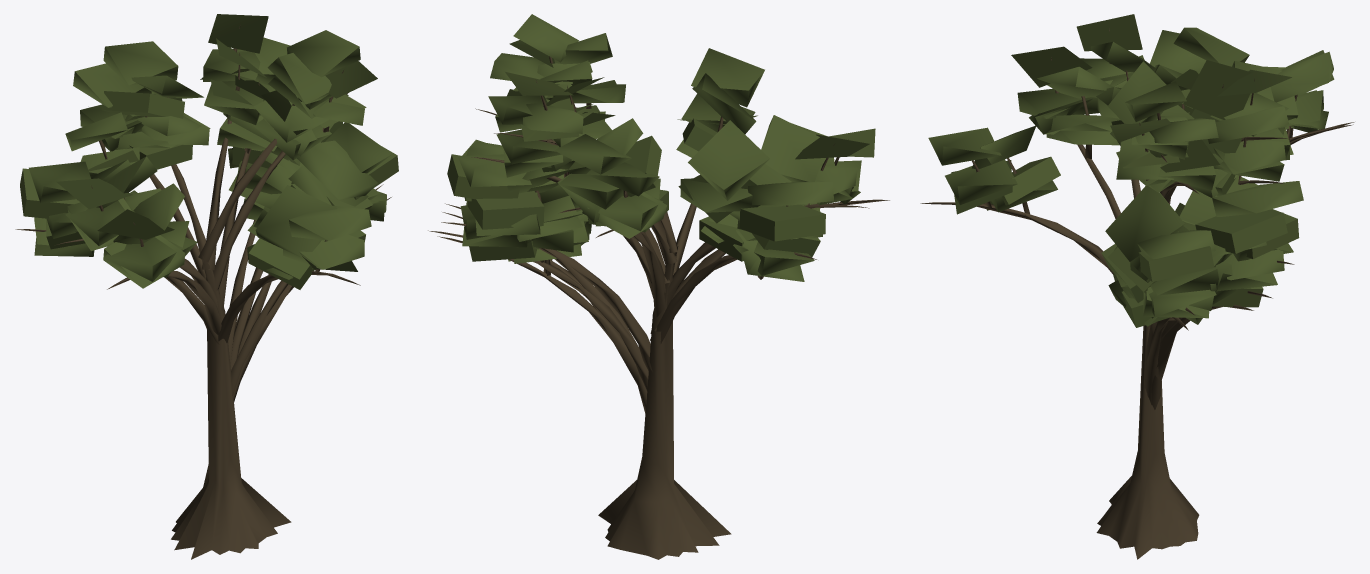
Rendered from Tree_BaldCypress_001.fbx.
The picture shows the model from 3 angles, left to right: view 1: azimuth 30°, elevation 25°; view 2: azimuth 150°, elevation 25°; view 3: azimuth 270°, elevation 25°; orthographic projection. The views are drawn at different scales.
Visible parts, largest first — view 1: Tree_BaldCypress.001; view 2: Tree_BaldCypress.001; view 3: Tree_BaldCypress.001.
Part boxes in pixels (left/top/right/bottom): Tree_BaldCypress.001: left=15, top=14, right=398, bottom=559; Tree_BaldCypress.001: left=428, top=14, right=889, bottom=559; Tree_BaldCypress.001: left=920, top=14, right=1354, bottom=559.
Bounding box in the file's own units: 1466 × 1737 × 1394.
